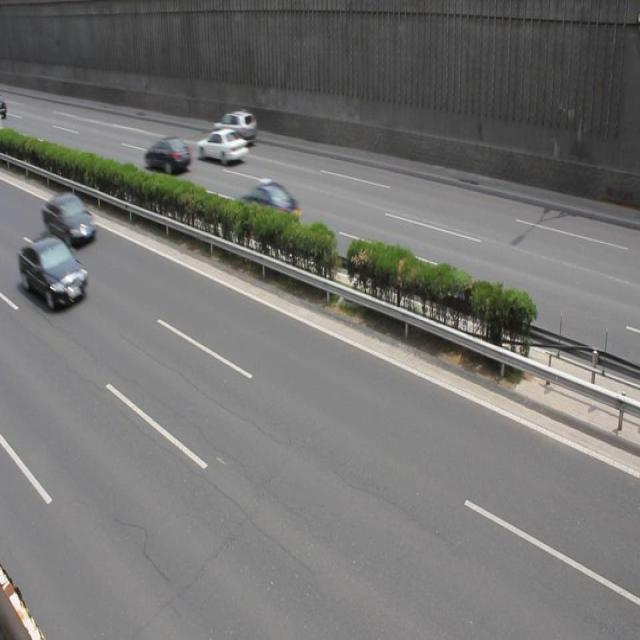car: (19, 234, 89, 311), (235, 180, 302, 240), (44, 191, 97, 250), (144, 136, 194, 175), (197, 128, 248, 166), (214, 110, 258, 146)
